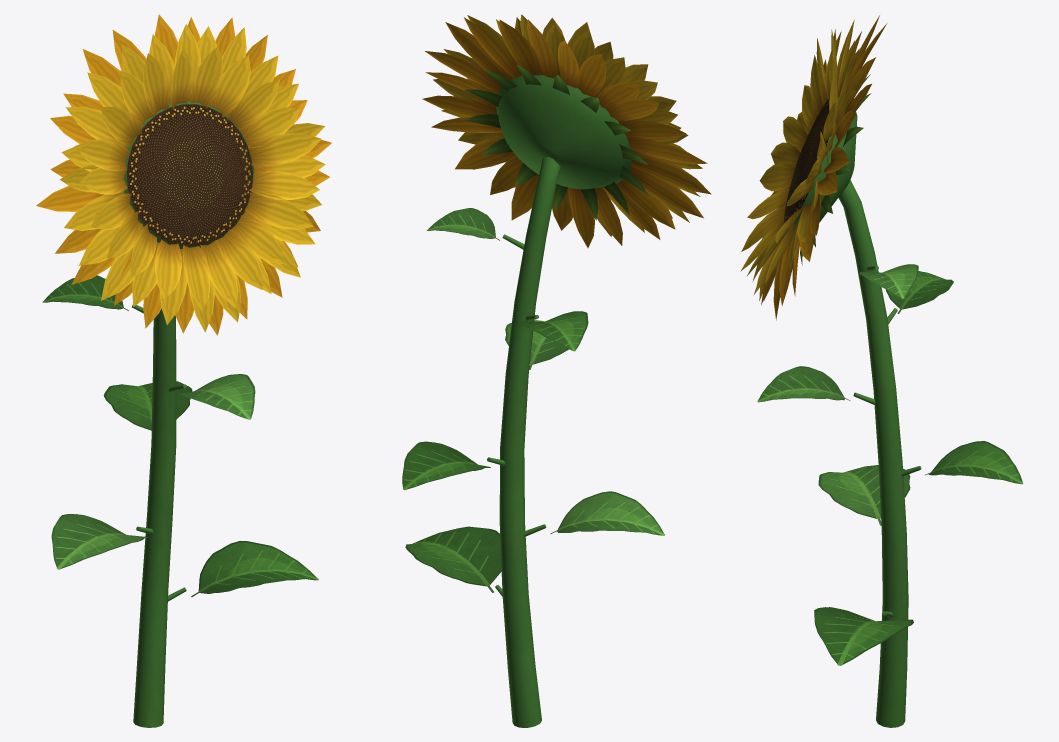
File: girasol_gigante.gltf
3 views of the same model, side by side, from view 1: azimuth 30°, elevation 25°; view 2: azimuth 150°, elevation 25°; view 3: azimuth 270°, elevation 25° (orthographic). The views are drawn at different scales.
Visible parts, largest first — view 1: girasol_gigante; view 2: girasol_gigante; view 3: girasol_gigante.
Boxes of the visible parts, left/top/right/bottom form: girasol_gigante: left=36, top=14, right=331, bottom=727; girasol_gigante: left=402, top=14, right=711, bottom=727; girasol_gigante: left=740, top=15, right=1023, bottom=727.
Bounding box in the file's own units: 2.05 × 4.41 × 1.76.
Materials: 7 (7 with a texture image).
